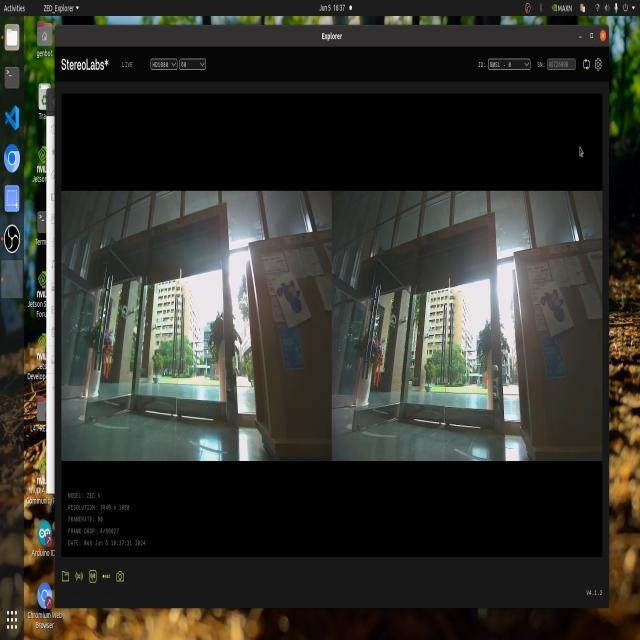blue: (276, 270, 308, 334), (536, 281, 574, 330)
